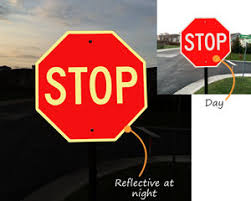stop sign: (34, 30, 148, 143), (181, 17, 230, 68)
